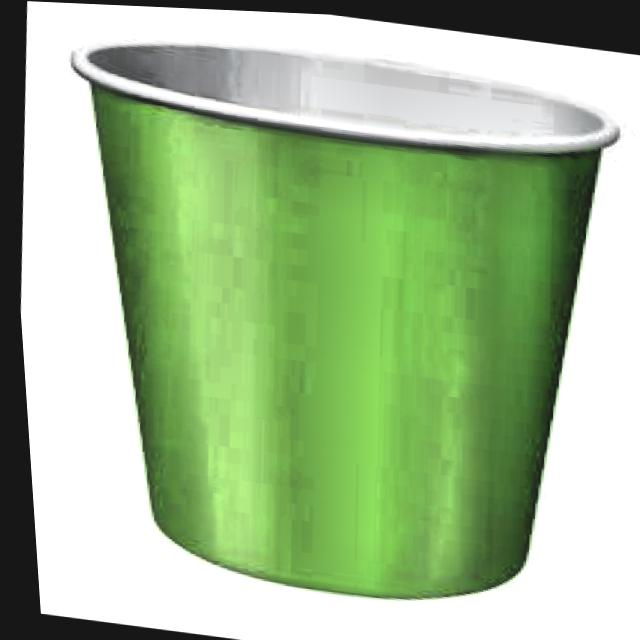Cup: (37, 20, 640, 633)
